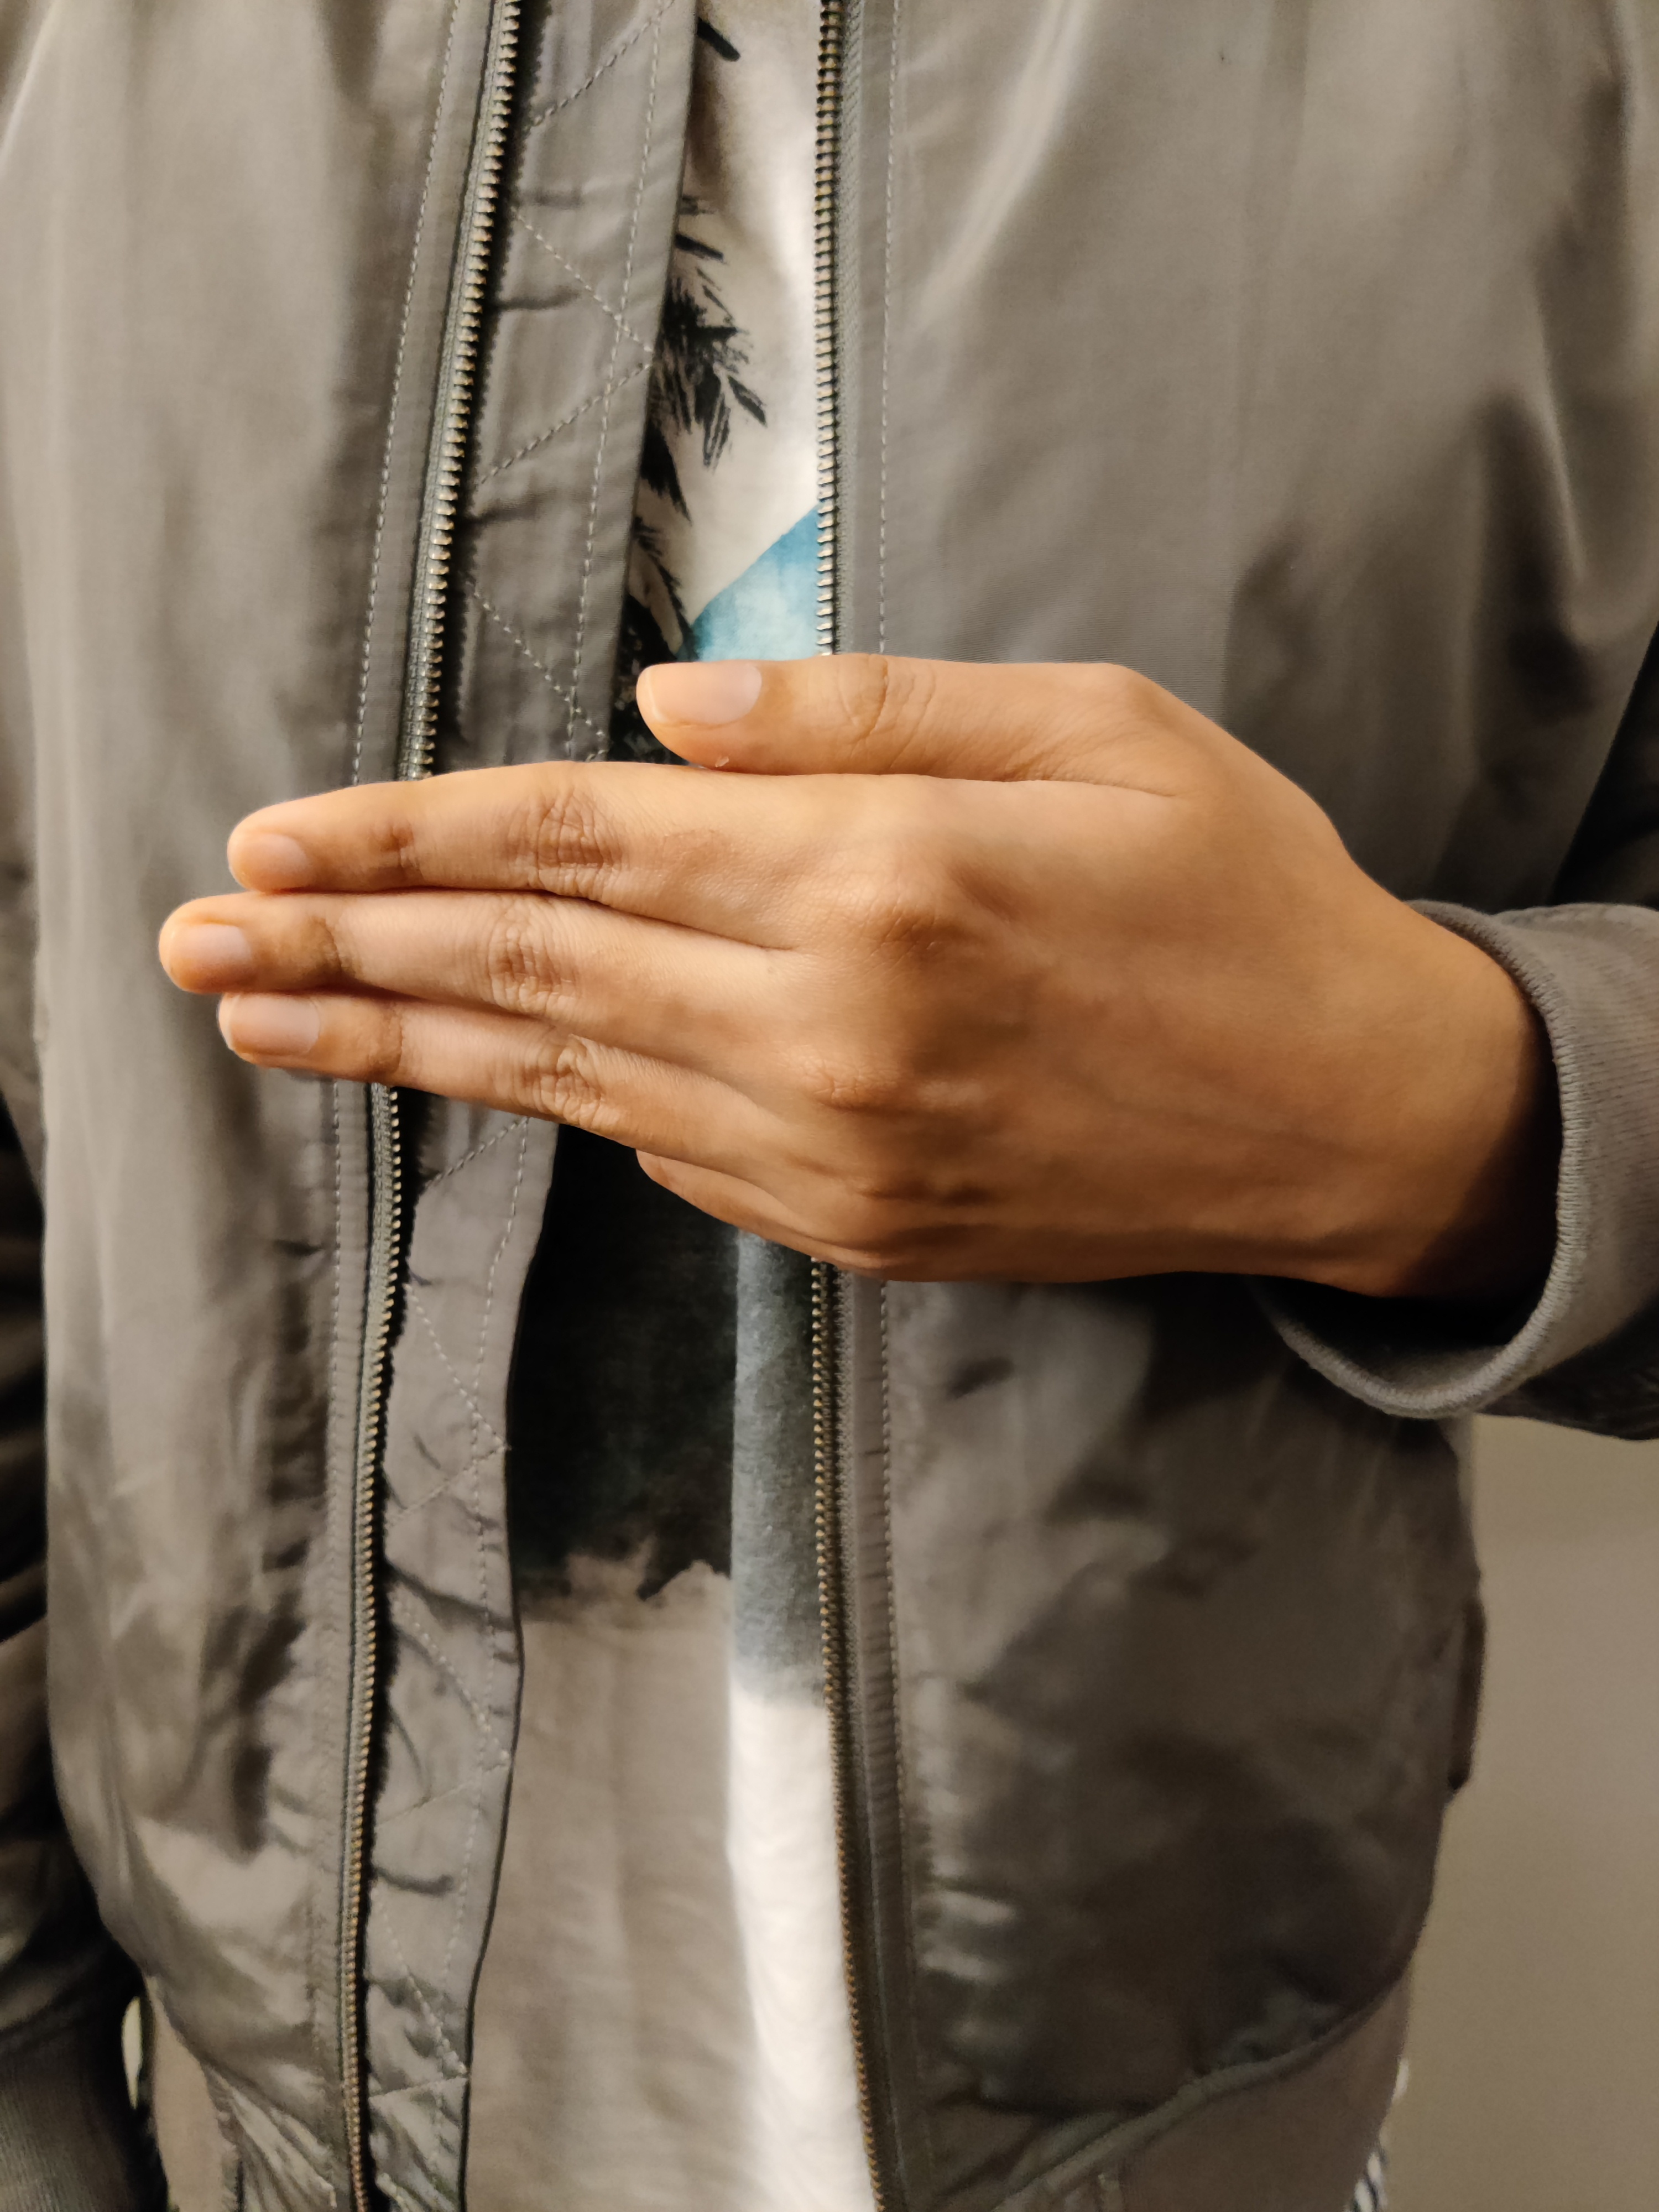right: (84, 507, 1622, 1561)
